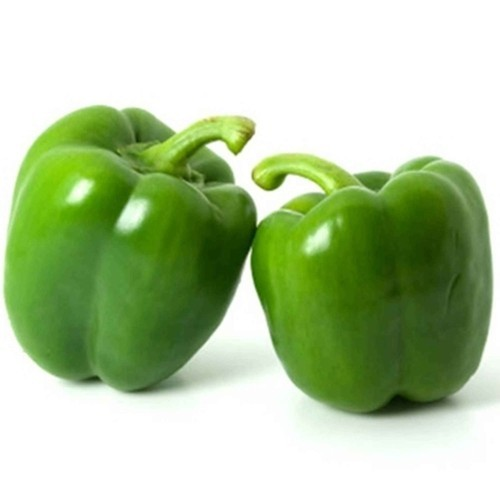capcicum: (3, 96, 259, 397), (247, 146, 495, 421)
